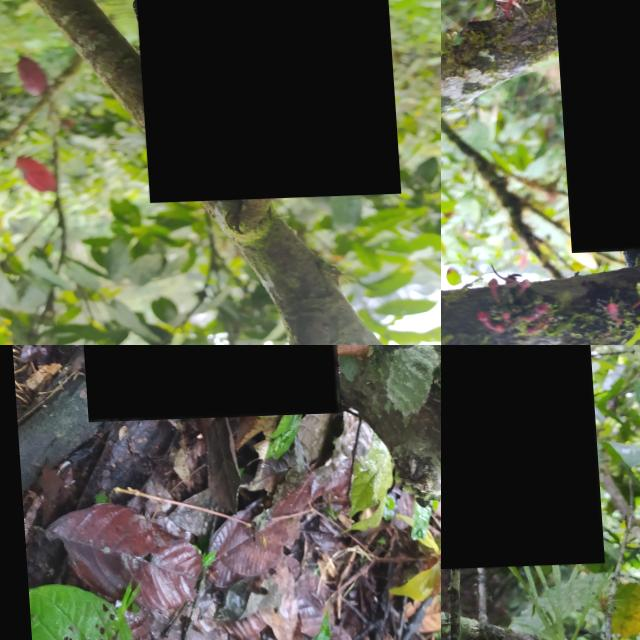Fitoftora: (122, 0, 395, 204), (546, 0, 640, 254)
Monilia: (441, 345, 597, 571), (77, 345, 336, 422)
